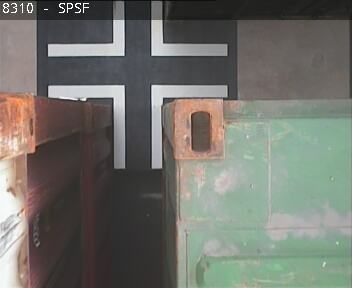groundmarker_1: (47, 84, 229, 169), (46, 1, 227, 58)
